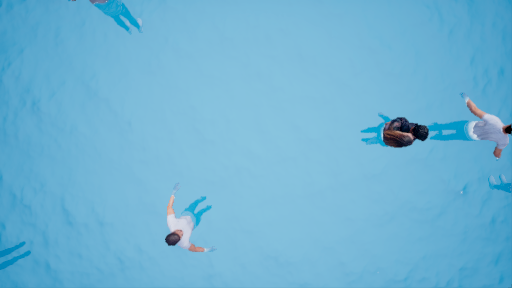person: (426, 90, 512, 161), (158, 183, 218, 253), (358, 108, 427, 153)
